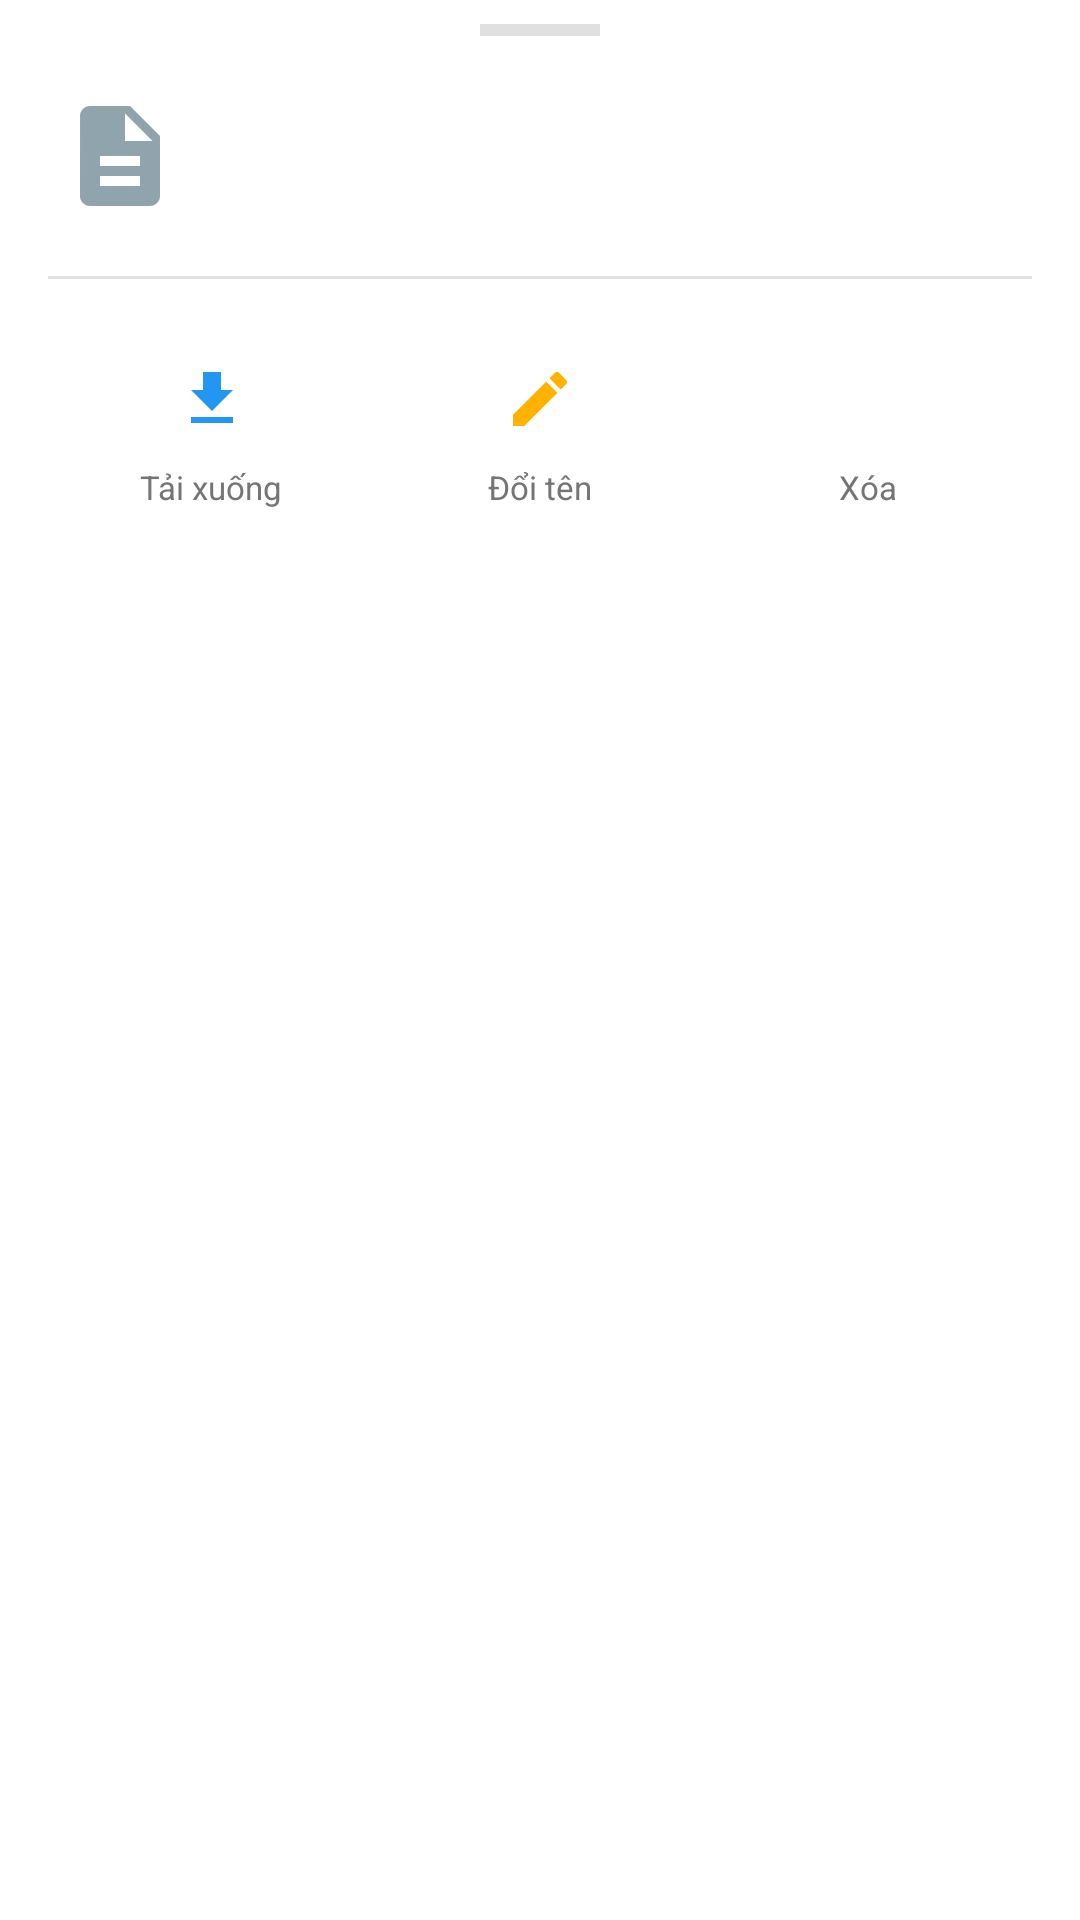

Icon click points for this 1080w x 1920h phone screenshot, format [x,y]:
Download: [212,397]
File type: [120,156]
Rename: [540,399]
